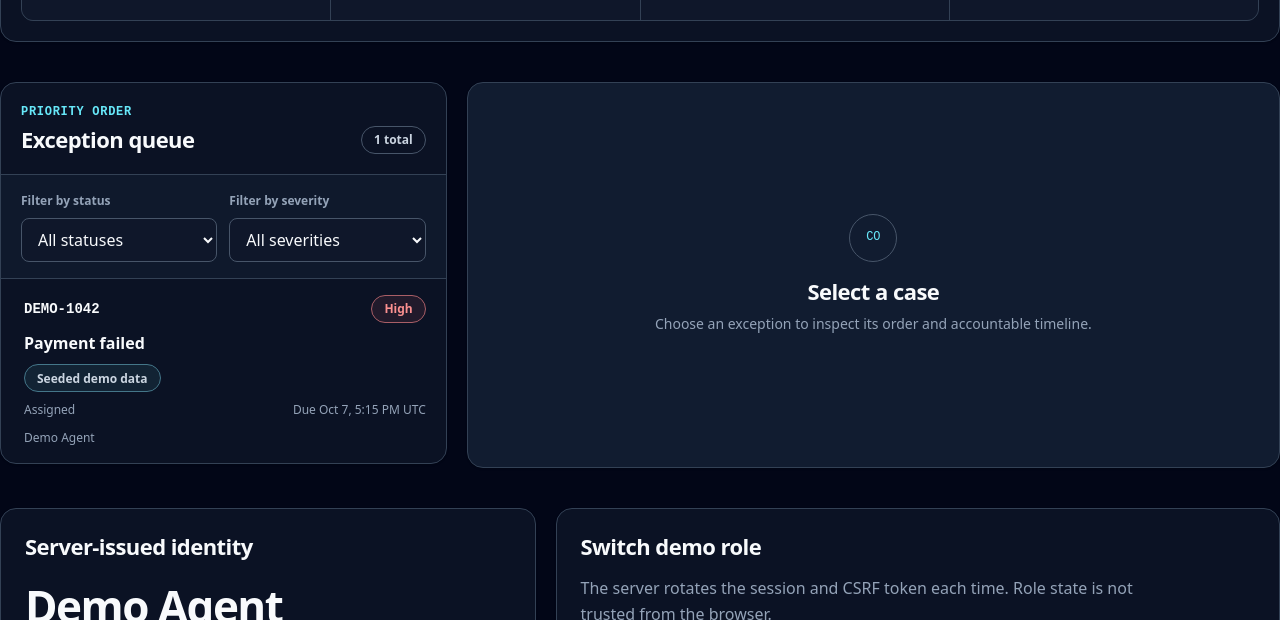
I03 exception operations workspace › lets an Agent resolve an owned case using the server-provided reason list
The image size is (1280, 620).
(page scrolled)
Click the button with aria-label "open demo-1042": x=62, y=309 [1,279,446,463]
(page scrolled)
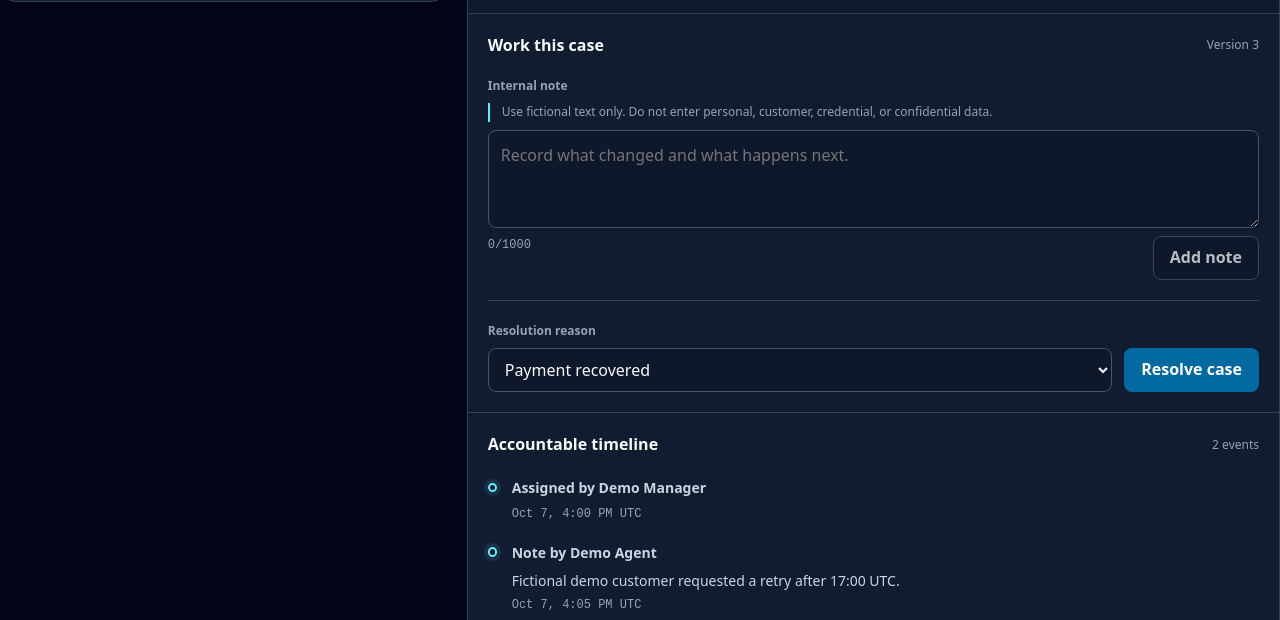
Select "Payment recovered" in the dropdown labelled "Resolution reason": x=800, y=370 [488,348,1112,392]
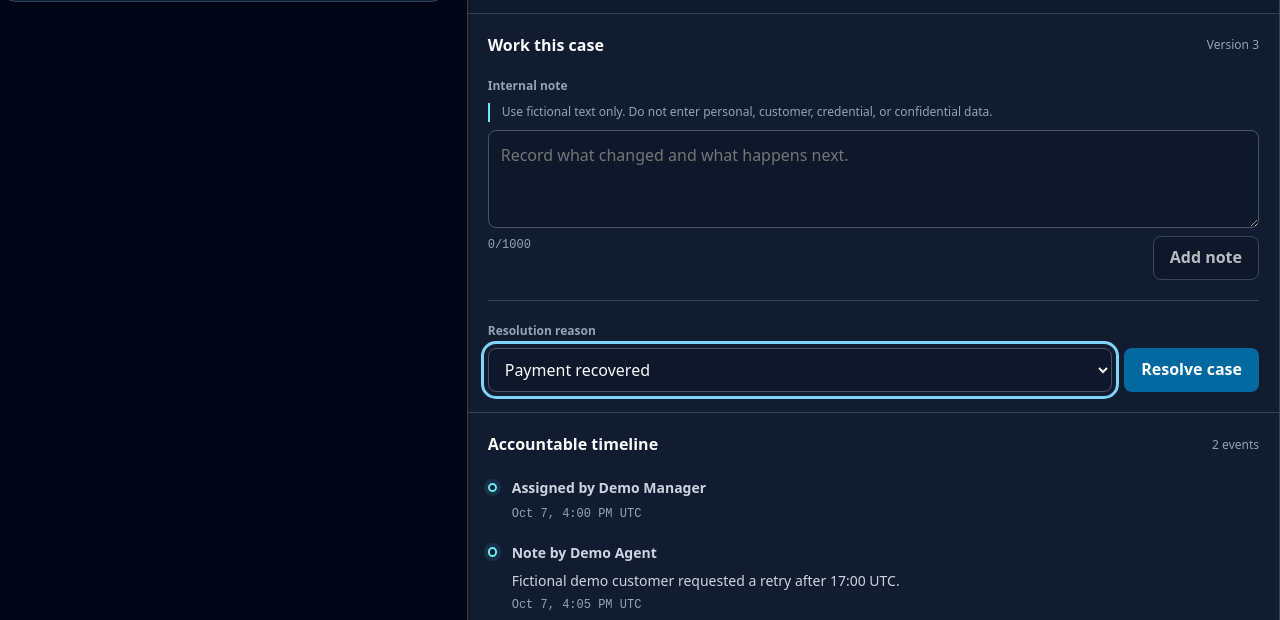
Click the button "Resolve case": x=1192, y=370 [1124,348,1259,392]
(page scrolled)
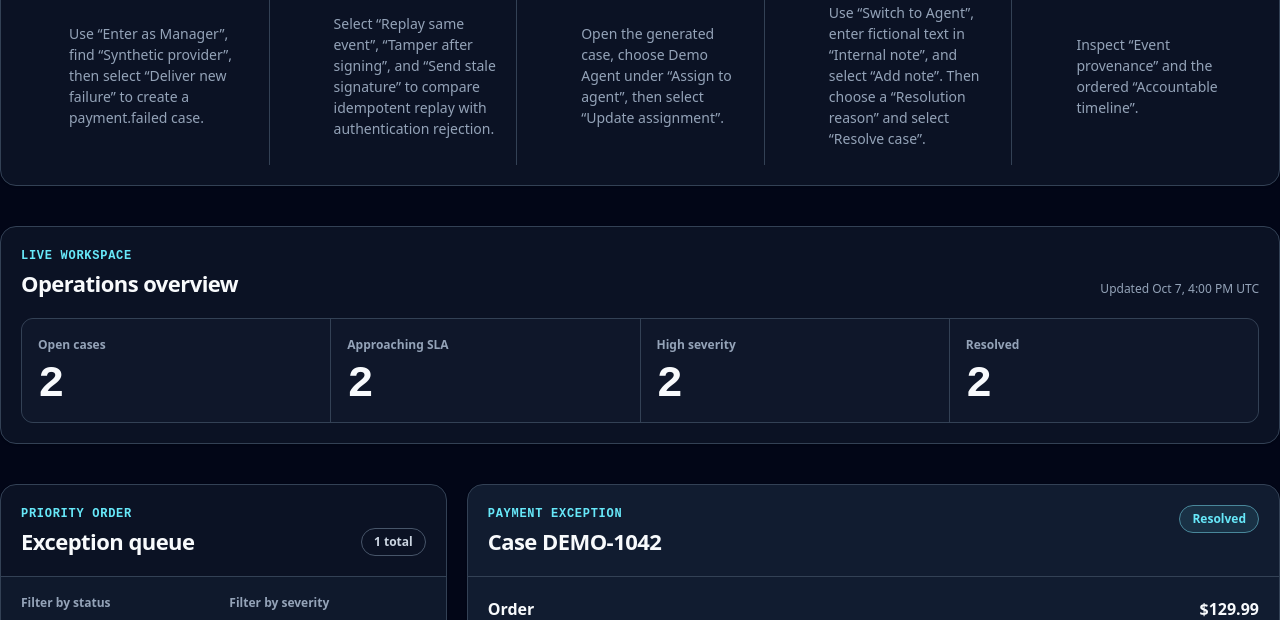
Result: the text "Resolved" in the row of "Exception queue" is shown at [1192,510,1246,527]
